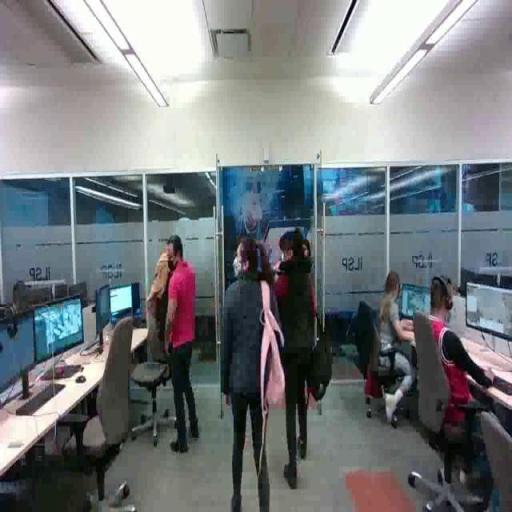person: (274, 223, 335, 498), (421, 278, 495, 503), (222, 239, 279, 512), (167, 236, 200, 454), (379, 272, 416, 423)
